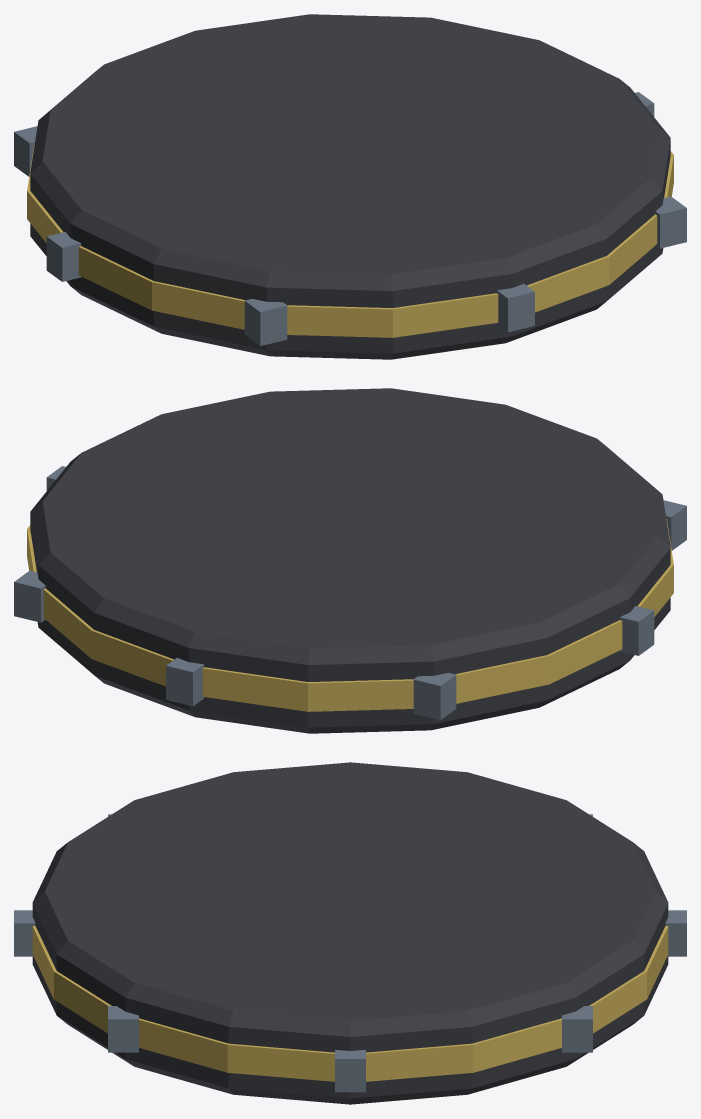
The model's file is Dec_M.fbx.
3 renders of one model, top to bottom at view 1: azimuth 30°, elevation 25°; view 2: azimuth 150°, elevation 25°; view 3: azimuth 270°, elevation 25°, orthographic.
Visible parts, largest first — view 1: Dec_M; view 2: Dec_M; view 3: Dec_M.
Part boxes in pixels (box(x1,y1,x2,y2)): Dec_M: box(14, 14, 686, 359); Dec_M: box(14, 388, 686, 733); Dec_M: box(14, 762, 686, 1104).
Bounding box in the file's own units: 2.18 × 0.3 × 2.18.
Materials: 1 (1 with a texture image).
